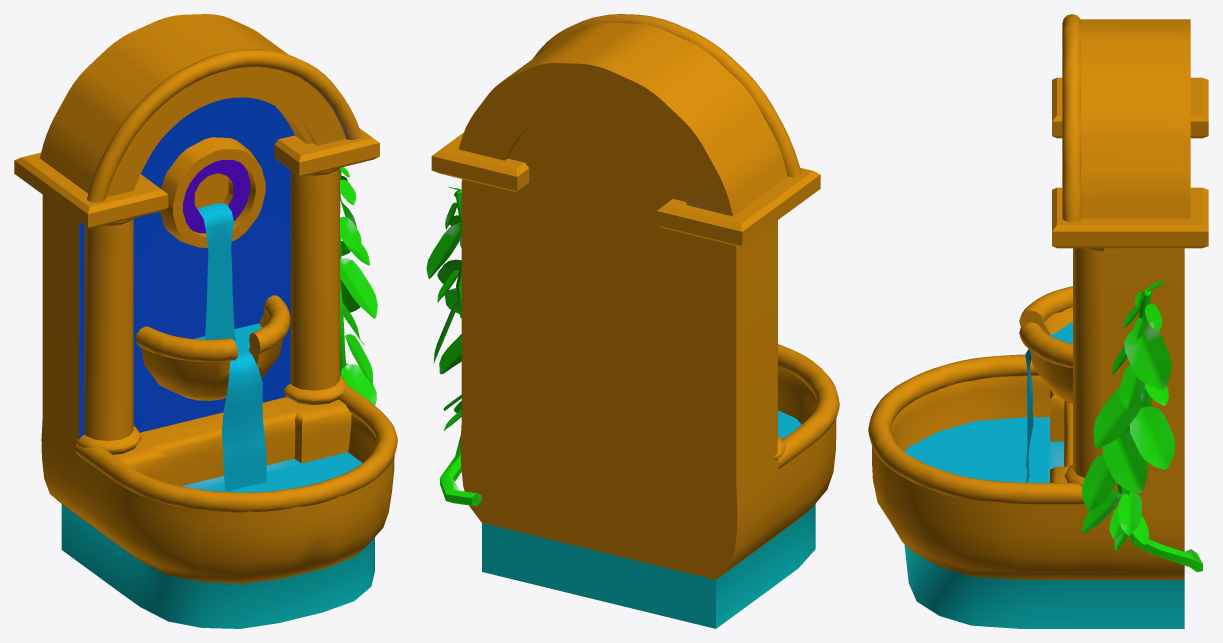
File: fountain.fbx
3 views of the same model, side by side, from view 1: azimuth 30°, elevation 25°; view 2: azimuth 150°, elevation 25°; view 3: azimuth 270°, elevation 25° (orthographic). The views are drawn at different scales.
Parts seen in each view (by area): view 1: Circle.019; view 2: Circle.019; view 3: Circle.019.
Part boxes in pixels (<box>): Circle.019: <box>14,14,397,628</box>; Circle.019: <box>426,14,839,628</box>; Circle.019: <box>868,14,1208,628</box>.
Bounding box in the file's own units: 291 × 442 × 251.
